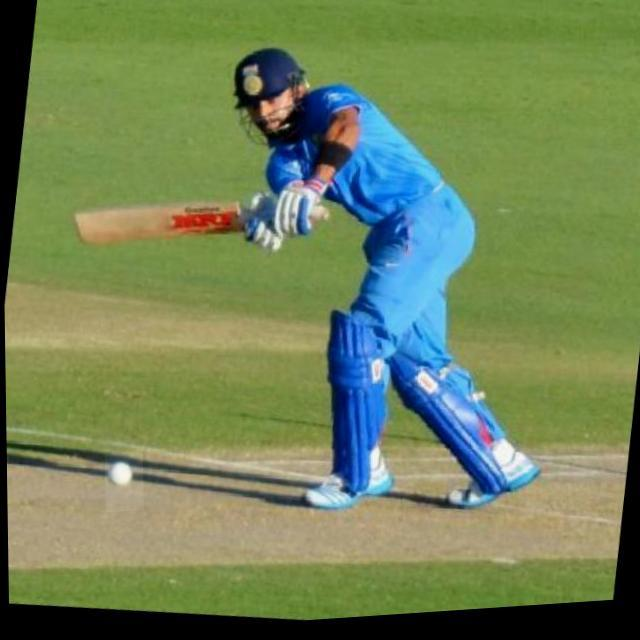-: (103, 453, 142, 514)
